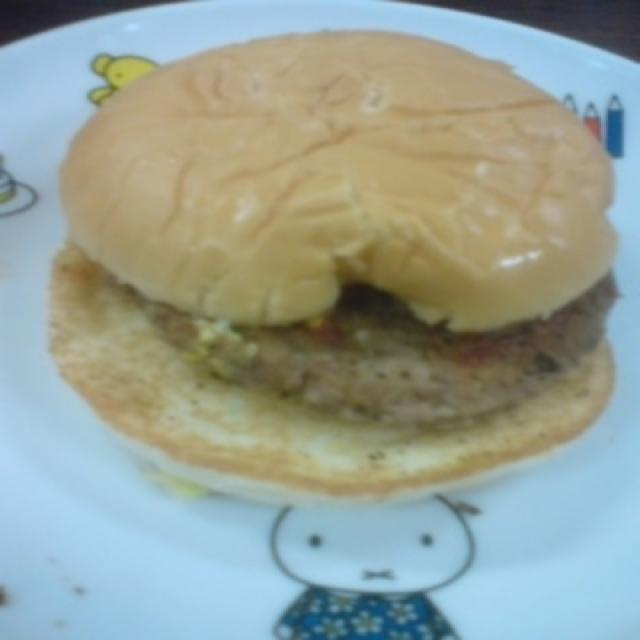Hamburger: (53, 29, 631, 496)
